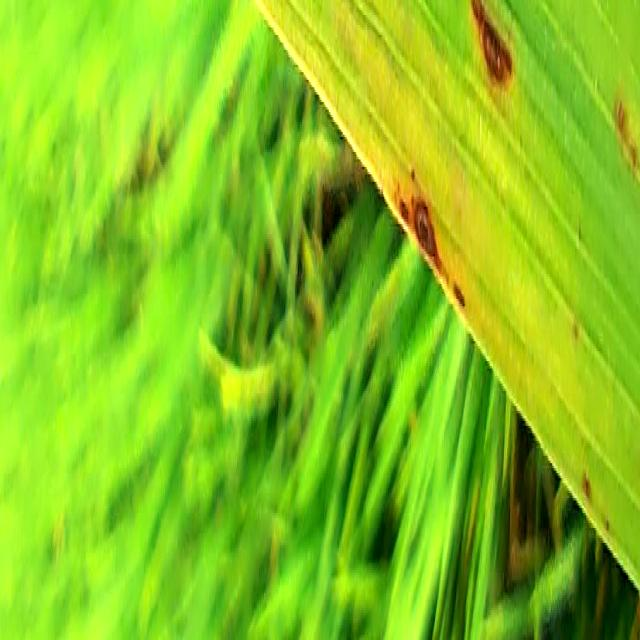LEAF BLAST: (471, 0, 513, 85), (414, 199, 443, 272)
